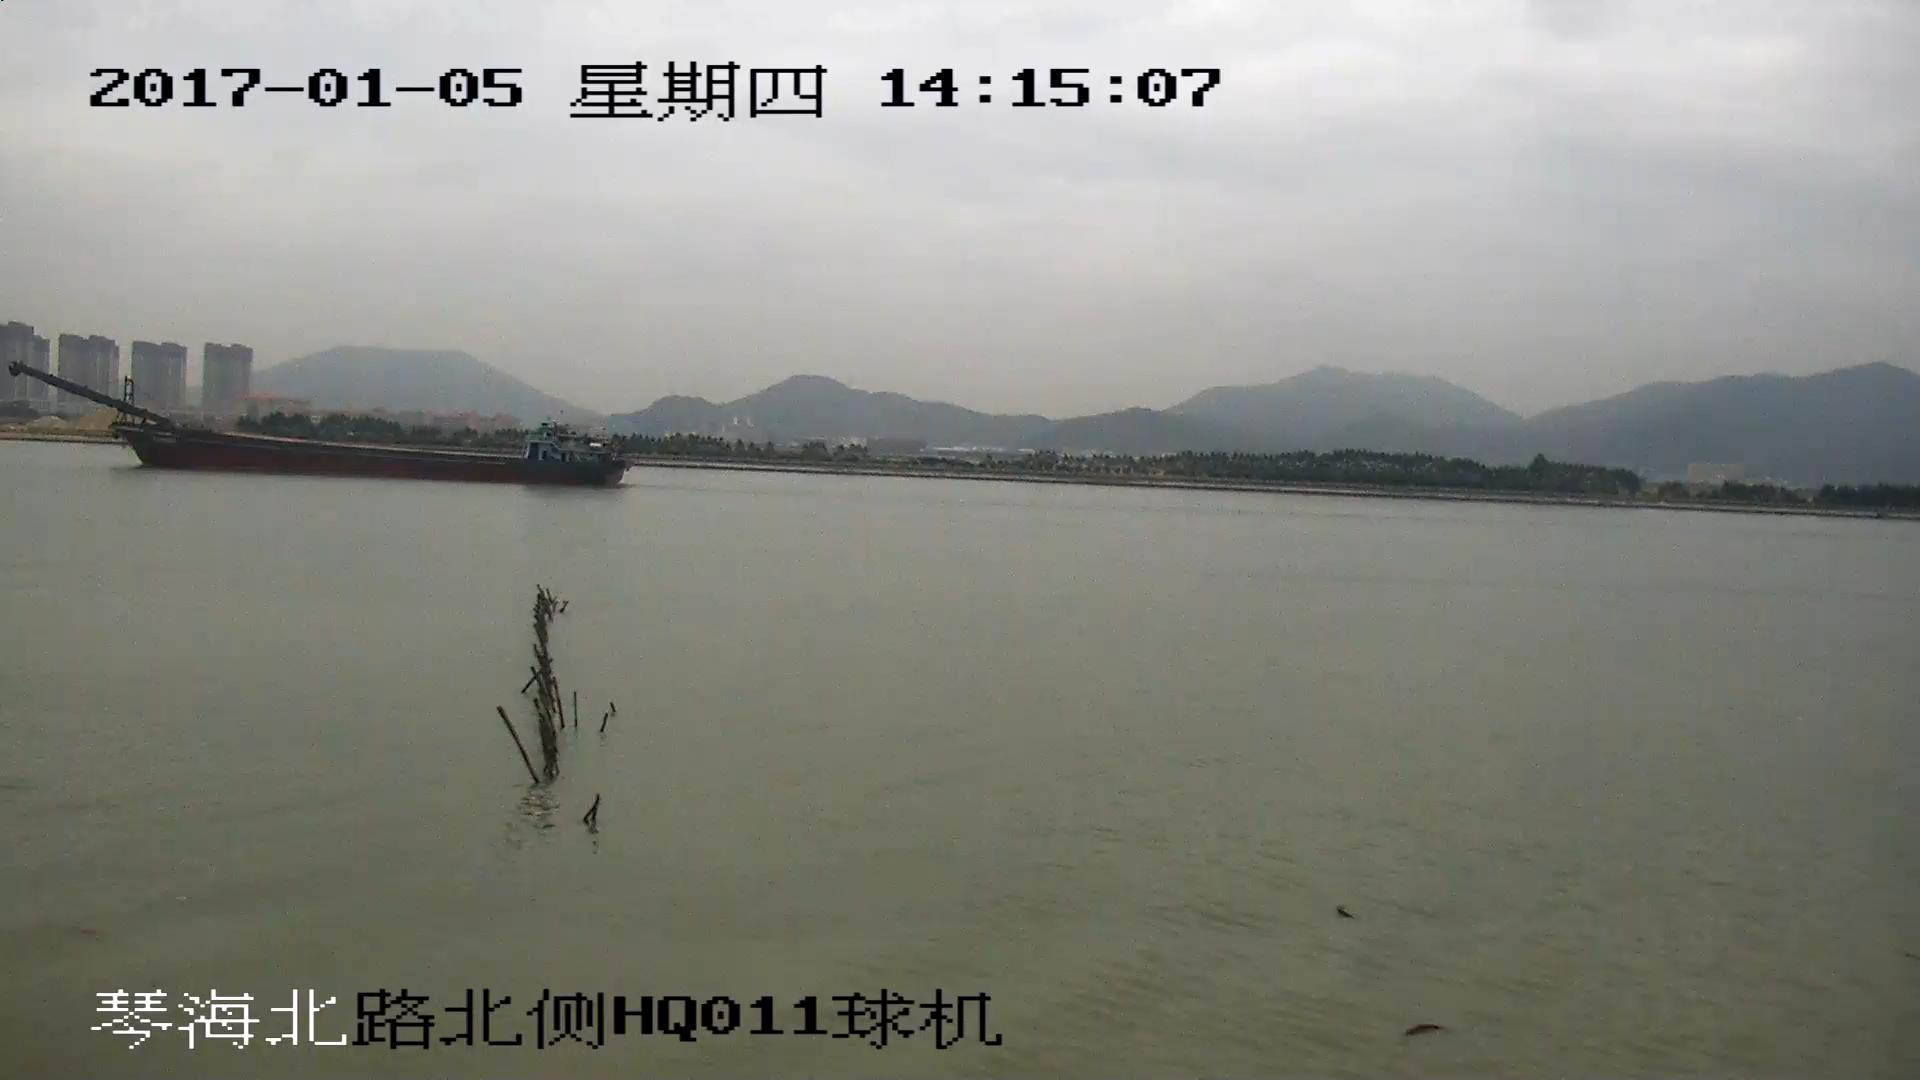bulk cargo carrier: (13, 367, 620, 489)
